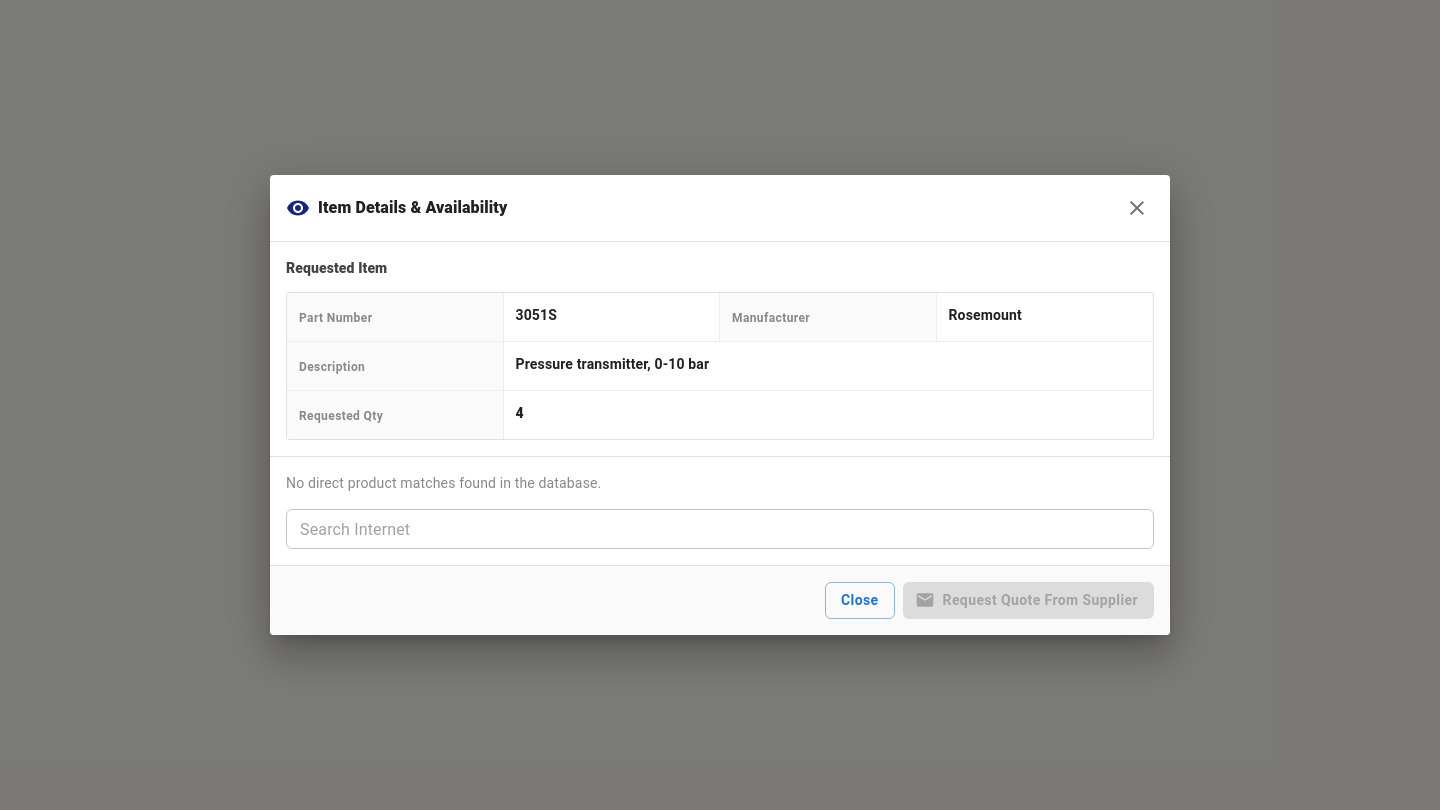
it: supplier RFQ dispatch — filtering candidates by tier › shows every candidate’s tier, including the ones nobody has classified
What coordinates should you click on to do the following:
click the field with placeholder "Search Internet"
I would click on:
 (720, 529)
Its box is [286,509,1154,549].
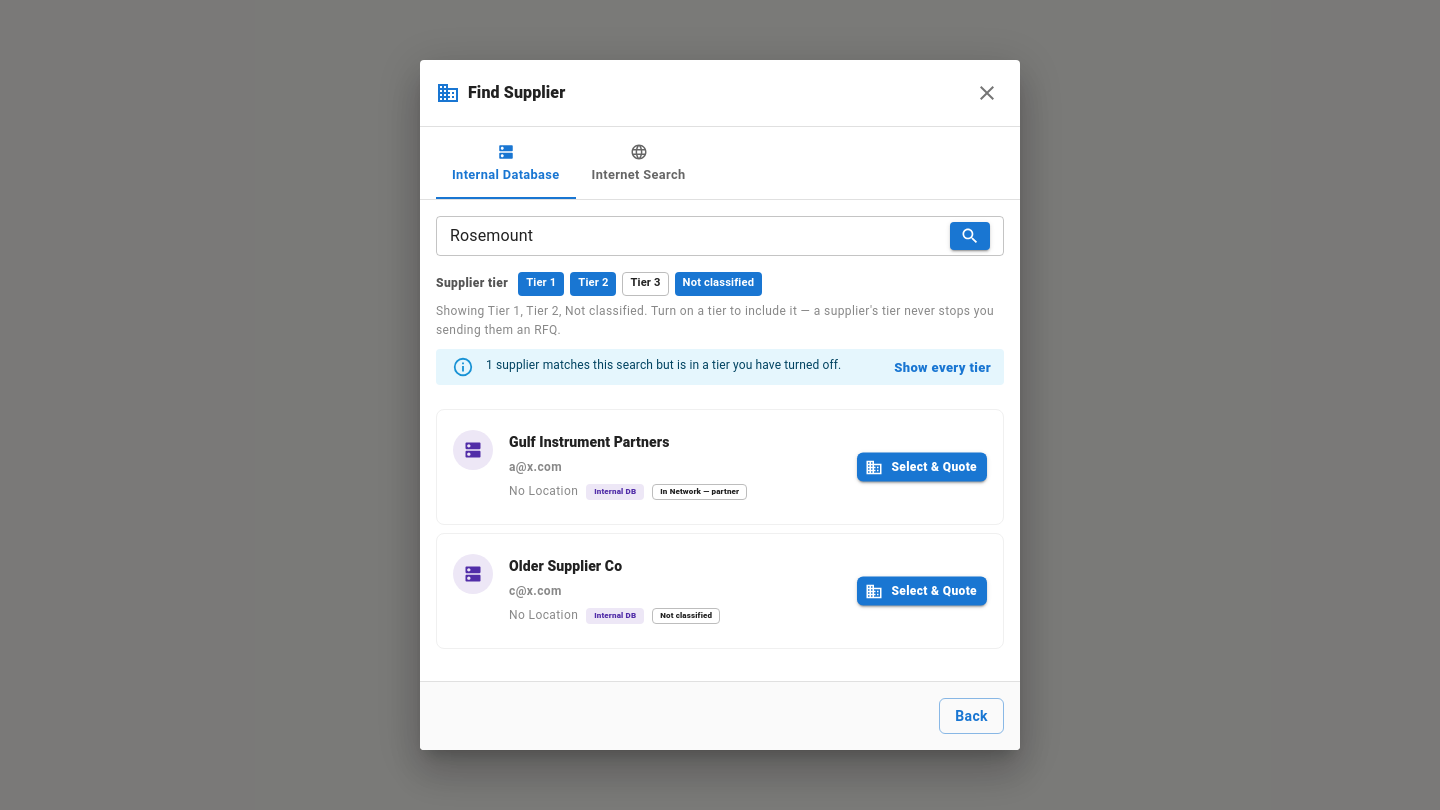
Result: the heading "Gulf Instrument Partners" is shown at [509,434,669,450]
Result: the list item "Gulf Instrument Partners" shows "In Network — partner" at [660,487,739,496]
Result: the list item "Older Supplier Co" shows "Not classified" at [660,611,712,620]
